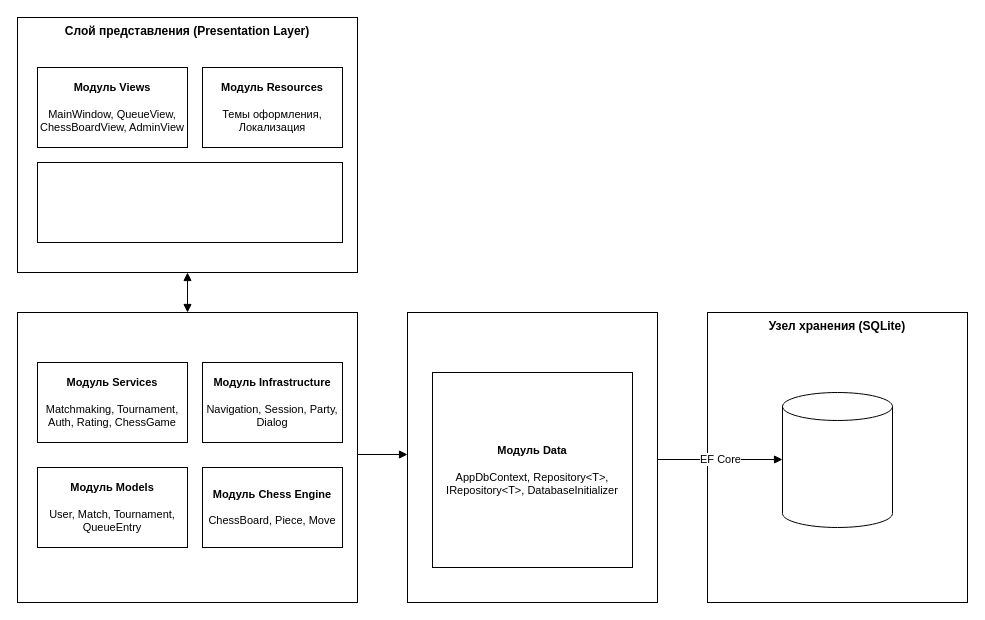
Image size: 985x620. Some labels were removed from this diagram. The box of each missing label's shape, as (x1, y1, x2, y2) in pixels:
База данных flux.db: (782, 392, 892, 528)
Модуль ViewModels MainViewModel, QueueViewModel, ChessBoardViewModel: (36, 162, 342, 242)
Слой данных (DAL): (406, 312, 658, 602)
Слой логики (Domain Layer): (16, 312, 358, 602)
